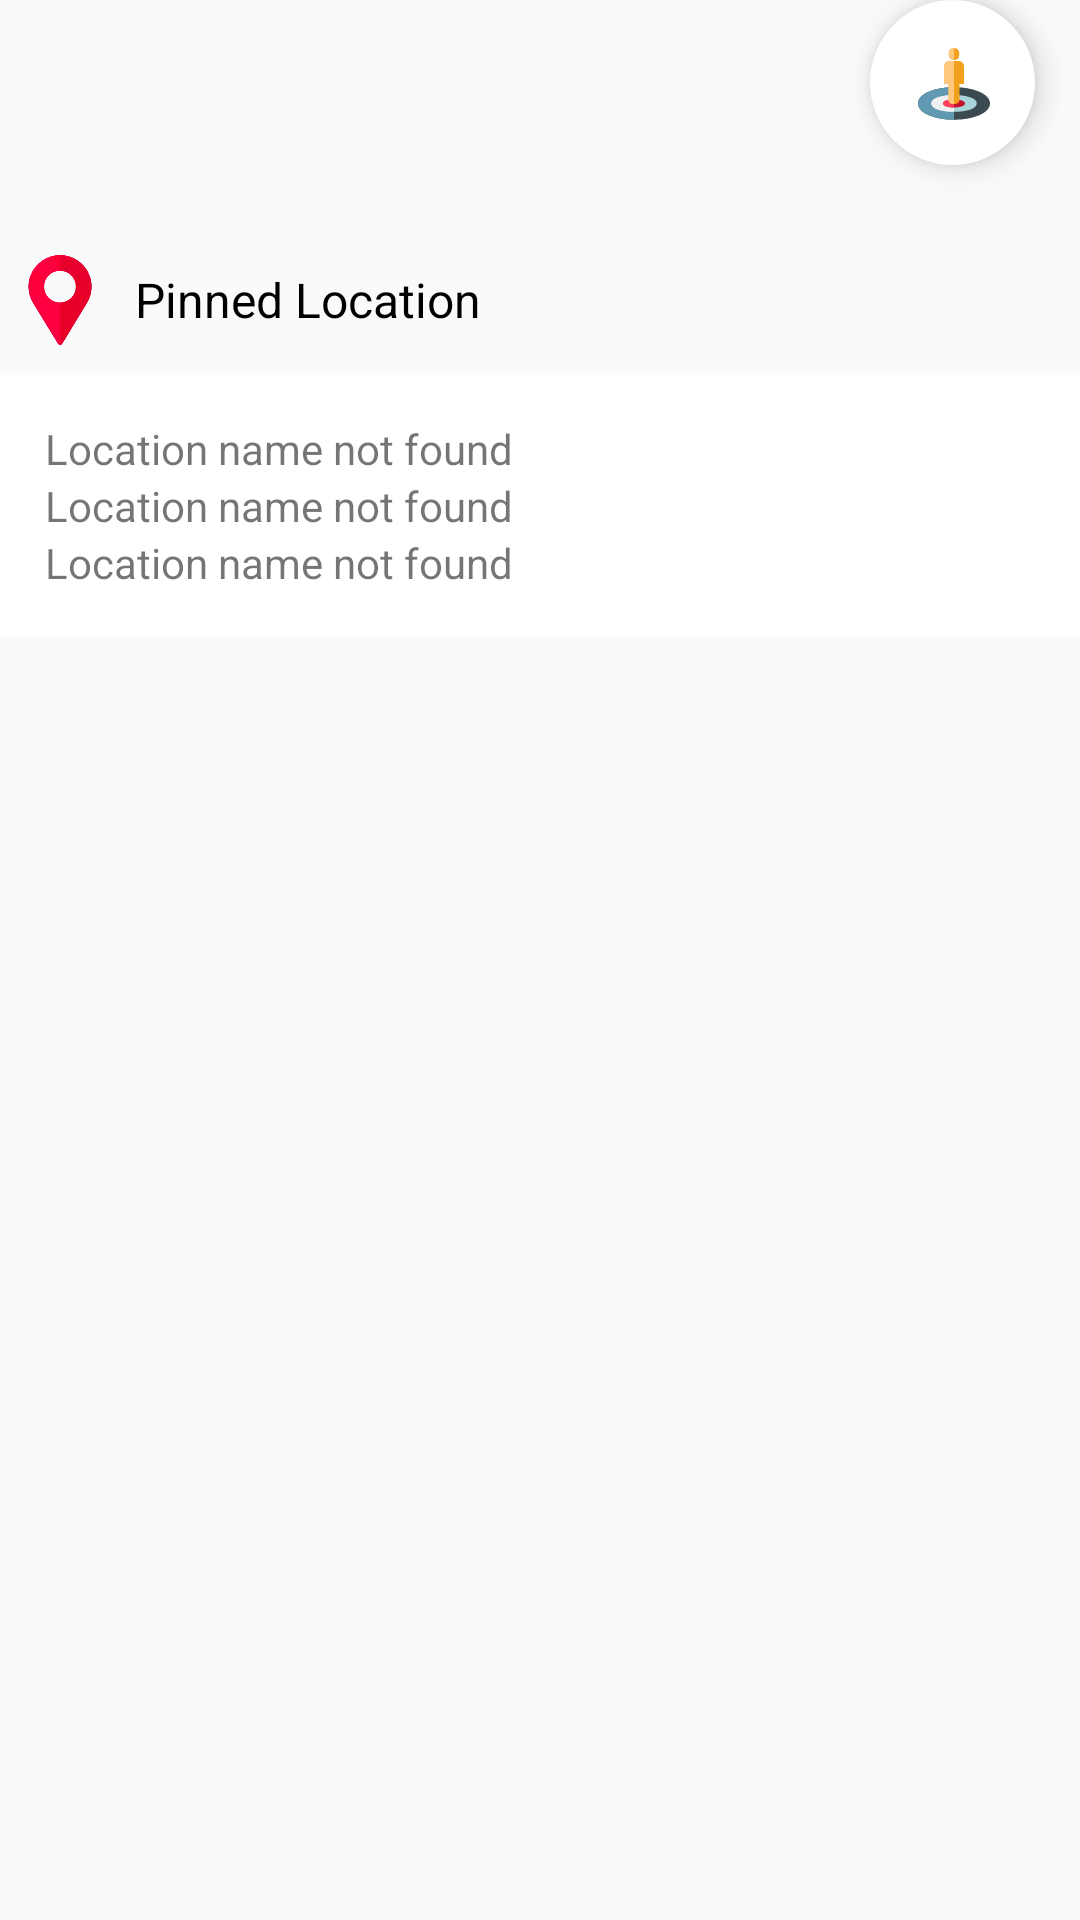

Named icons in this screenshot (1080w x 1920h) and their centers, [x,y]:
Find your location: [952,82]
